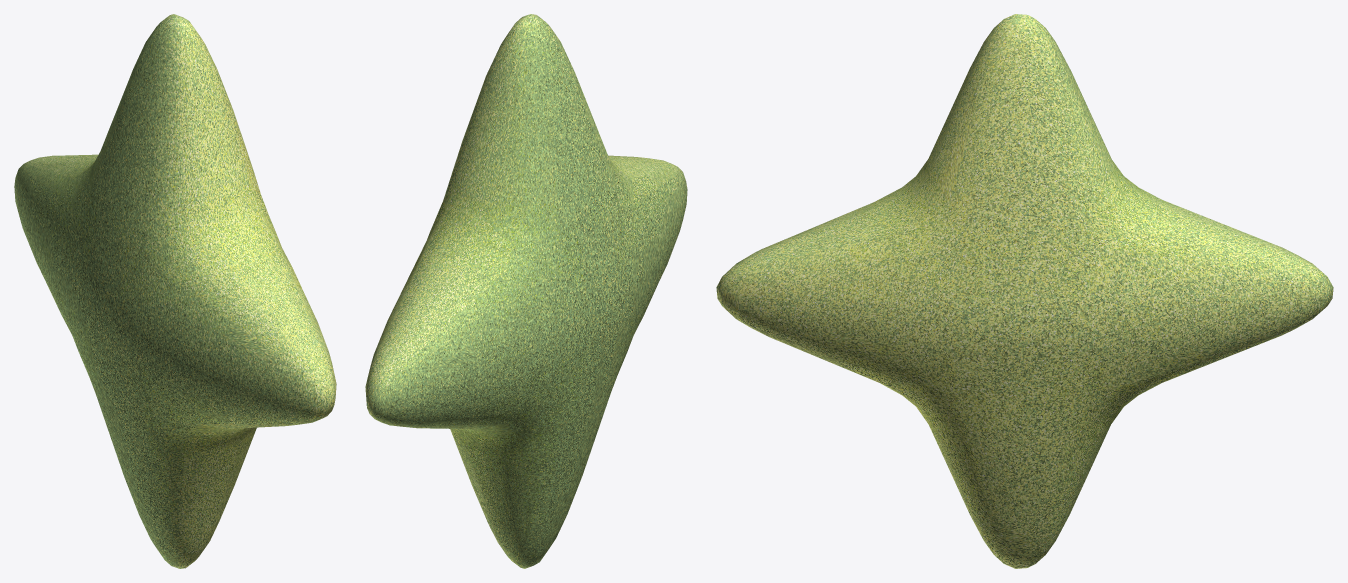
Rendered from starr.glb.
3 views of the same model, side by side, from view 1: azimuth 30°, elevation 25°; view 2: azimuth 150°, elevation 25°; view 3: azimuth 270°, elevation 25° (orthographic).
Visible parts, largest first — view 1: Cube.049; view 2: Cube.049; view 3: Cube.049.
Part boxes in pixels (<box>): Cube.049: <box>14,14,336,568</box>; Cube.049: <box>365,14,687,568</box>; Cube.049: <box>716,14,1333,568</box>.
Bounding box in the file's own units: 0.0297 × 0.1003 × 0.1011.
Materials: 1 (1 with a texture image).
